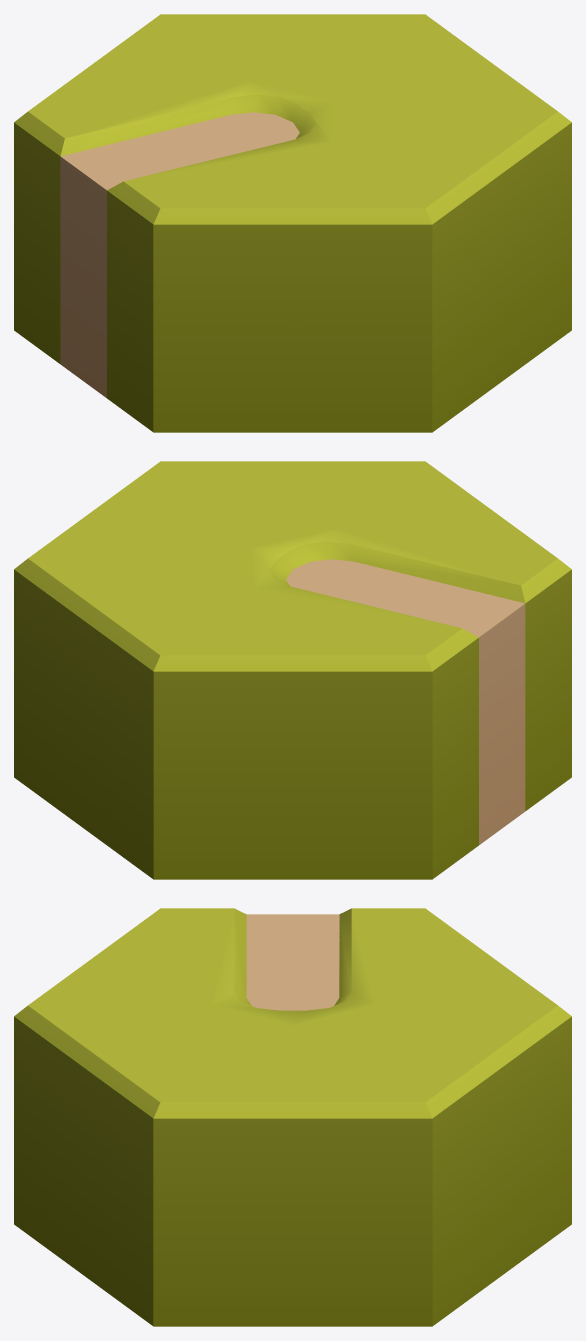
Rendered from hex_road_m.glb.
The picture shows the model from 3 angles, top to bottom: view 1: azimuth 30°, elevation 25°; view 2: azimuth 150°, elevation 25°; view 3: azimuth 270°, elevation 25°; orthographic projection.
Visible parts, largest first — view 1: hex_road_M; view 2: hex_road_M; view 3: hex_road_M.
Part boxes in pixels (x1=…): hex_road_M: x1=14, y1=14, x2=571, y2=432; hex_road_M: x1=14, y1=461, x2=571, y2=879; hex_road_M: x1=14, y1=908, x2=571, y2=1326.
Size of the model in its own units: 2 by 1 by 2.31.
1 material, 1 textured.
